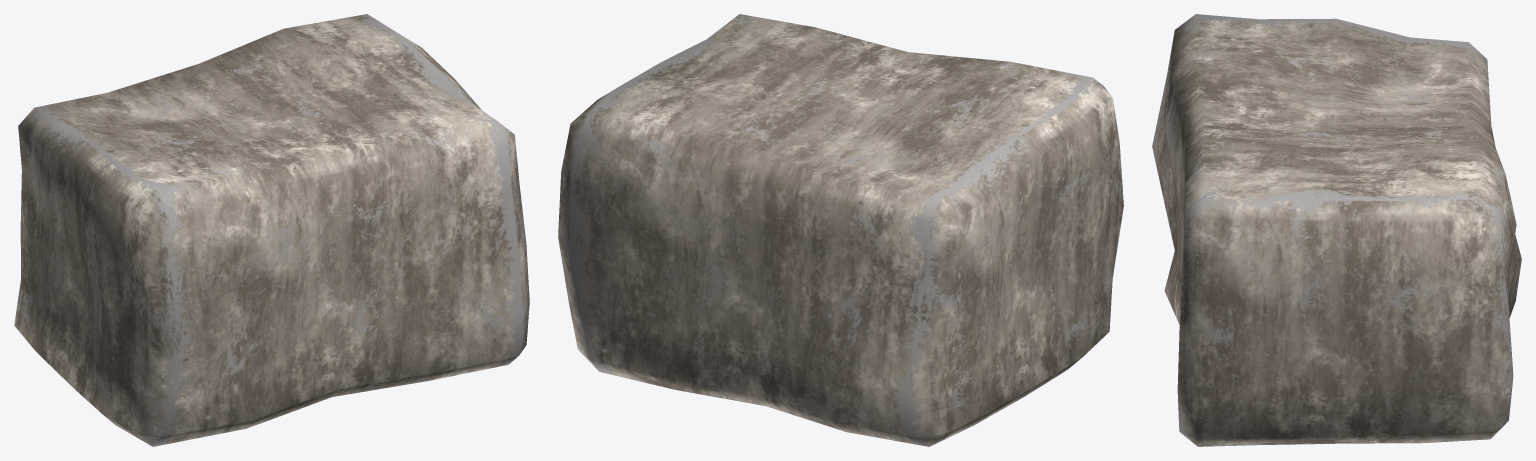
File: cube_rock.glb
3 renders of one model, left to right at view 1: azimuth 30°, elevation 25°; view 2: azimuth 150°, elevation 25°; view 3: azimuth 270°, elevation 25°, orthographic. The views are drawn at different scales.
Visible parts, largest first — view 1: Rock; view 2: Rock; view 3: Rock.
Boxes of the visible parts, x1,y1,x2,y2 form: Rock: (14, 14, 529, 446); Rock: (558, 14, 1123, 446); Rock: (1152, 14, 1521, 446).
Size of the model in its own units: 46.08 by 28.84 by 35.31.
1 material, 1 textured.
